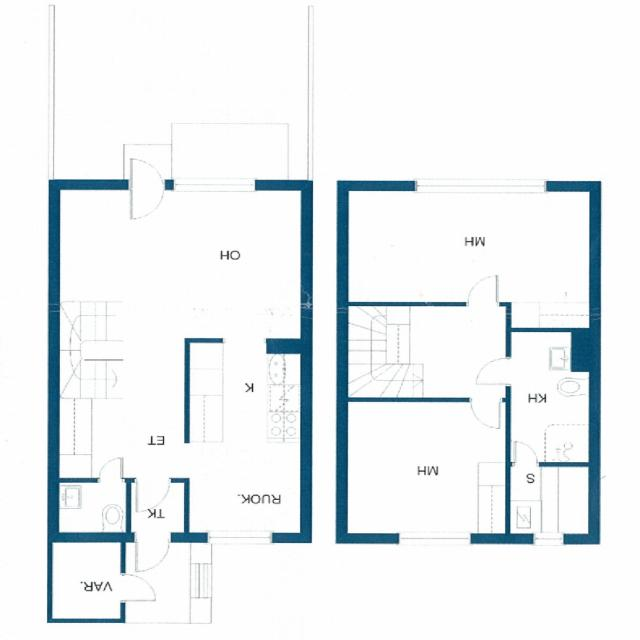door: (136, 532, 168, 571), (131, 180, 163, 217), (131, 153, 163, 190), (136, 478, 169, 511), (475, 358, 510, 384), (470, 398, 500, 428), (120, 575, 154, 601), (468, 276, 497, 306), (98, 458, 122, 482), (514, 442, 536, 466)
